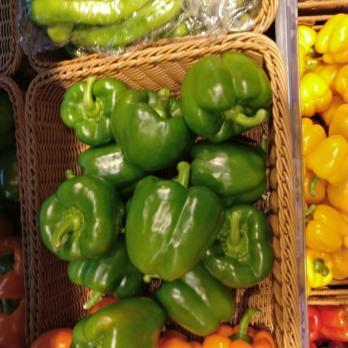Capsicum: (39, 70, 281, 348), (299, 15, 348, 348)
